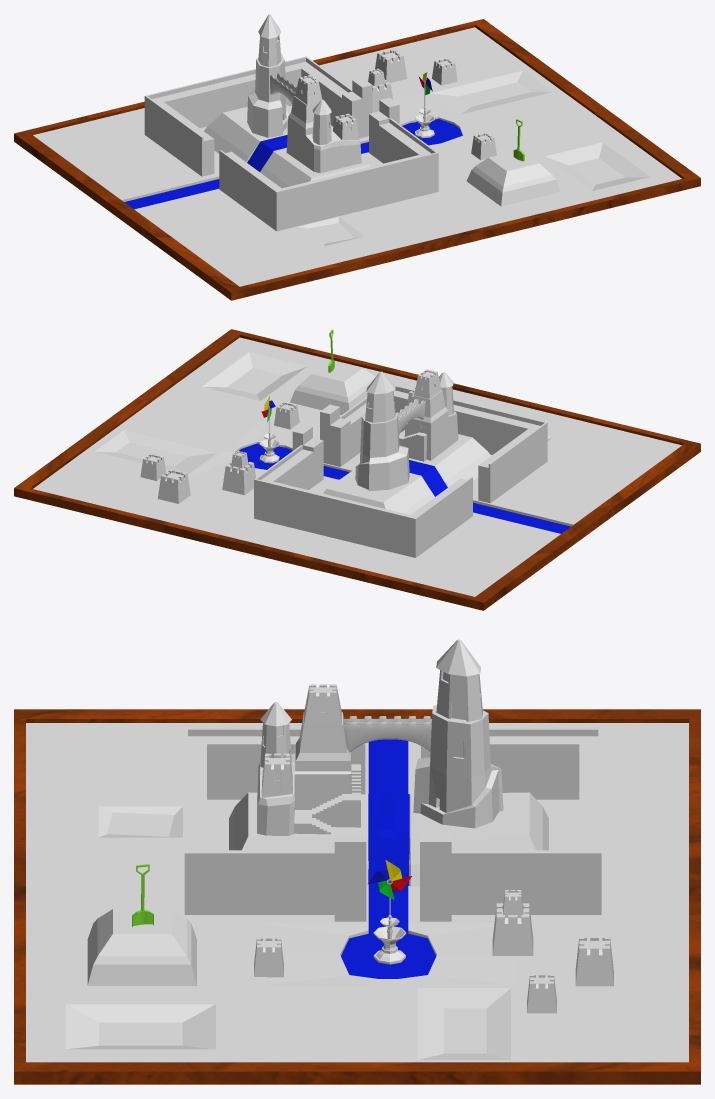
Rendered from AN_3D_SandCastle_TEMPTEXTURES.fbx.
3 renders of one model, top to bottom at view 1: azimuth 30°, elevation 25°; view 2: azimuth 150°, elevation 25°; view 3: azimuth 270°, elevation 25°, orthographic. The views are drawn at different scales.
Visible parts, largest first — view 1: AN_3D_SandCastle_TEMPTEXTURES; view 2: AN_3D_SandCastle_TEMPTEXTURES; view 3: AN_3D_SandCastle_TEMPTEXTURES.
Boxes of the visible parts, left/top/right/bottom form: AN_3D_SandCastle_TEMPTEXTURES: left=14, top=14, right=700, bottom=300; AN_3D_SandCastle_TEMPTEXTURES: left=14, top=329, right=700, bottom=610; AN_3D_SandCastle_TEMPTEXTURES: left=14, top=639, right=700, bottom=1084.
Size of the model in its own units: 1306 by 370 by 1047.
11 materials, 2 textured.
